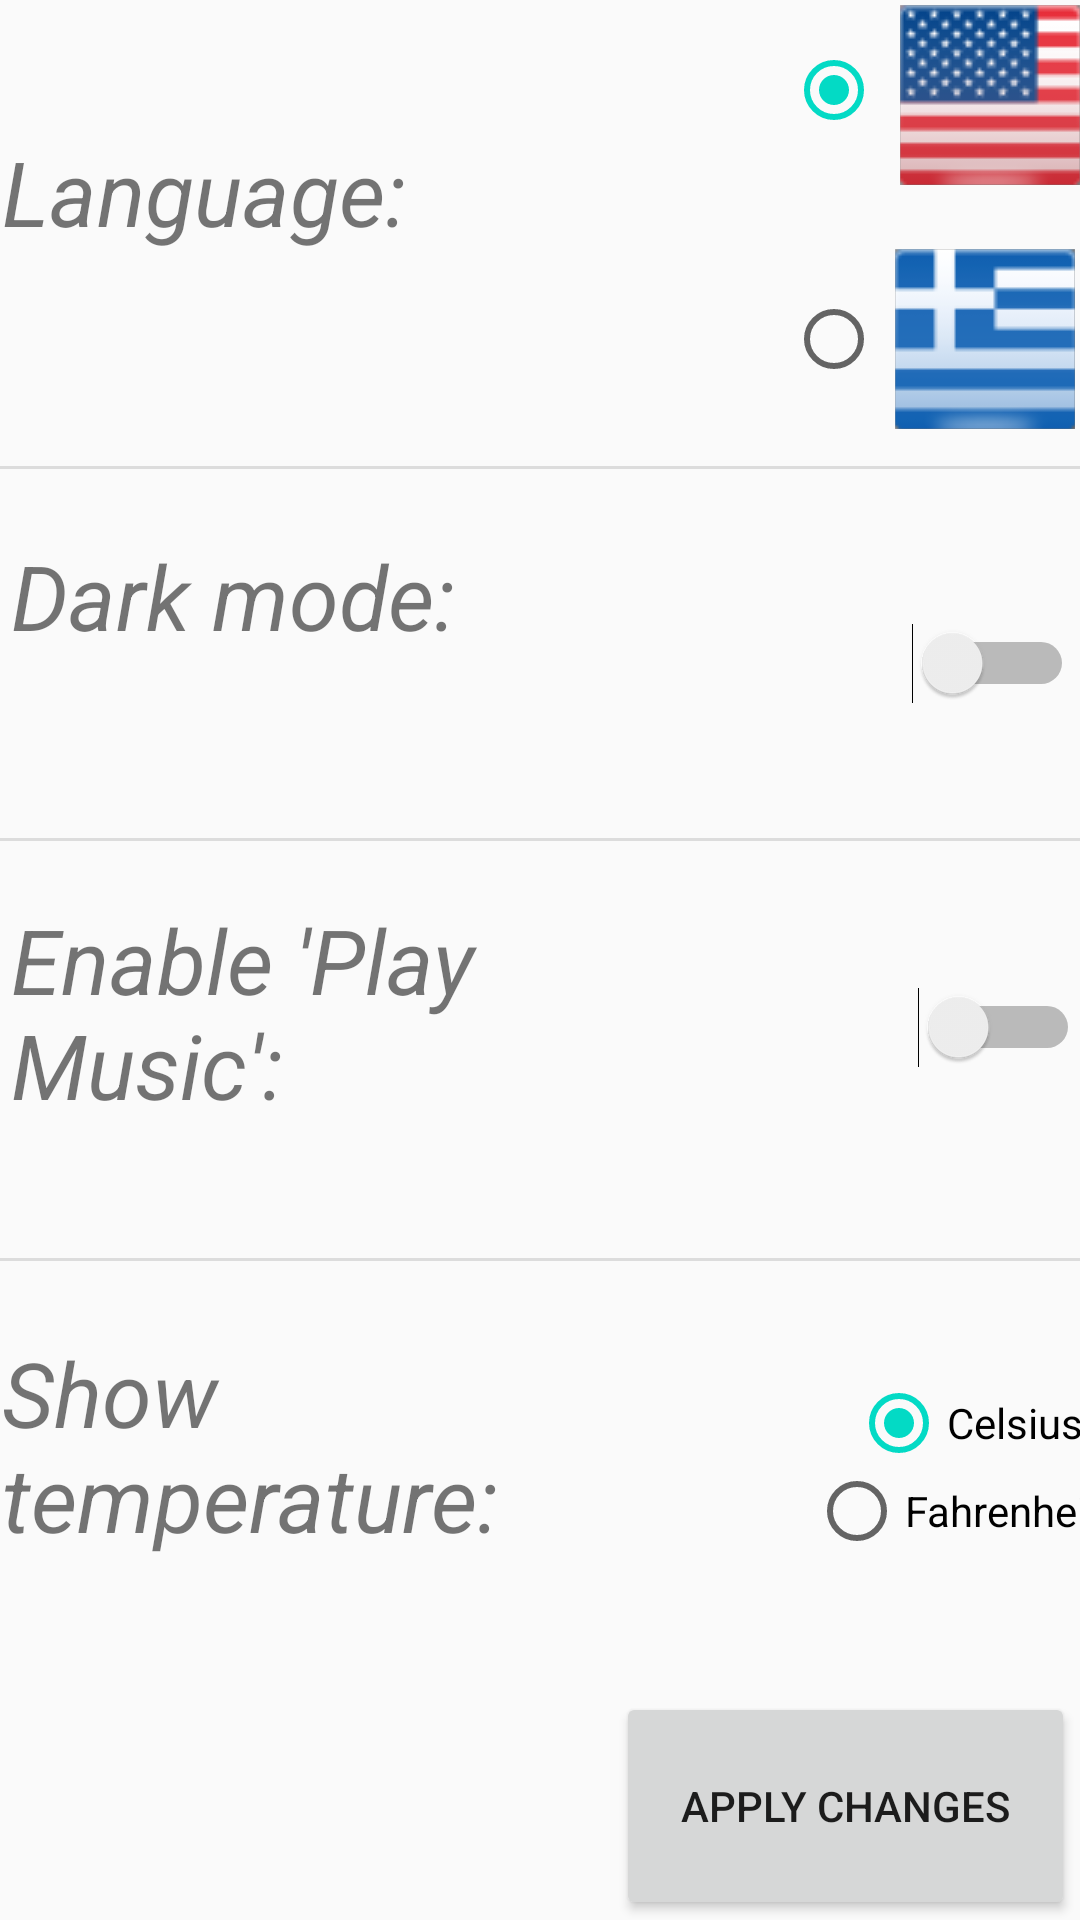

Named icons in this screenshot (1080 x 1920) and their centers, (x,y):
usa: (990,95)
